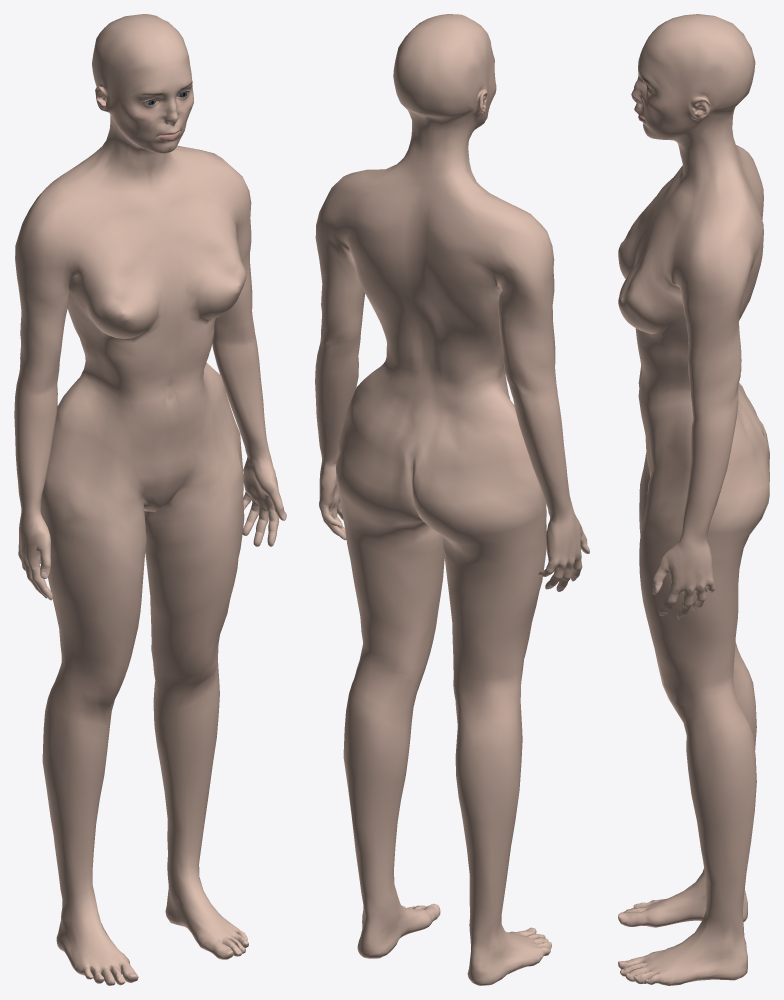
File: woman_central_v4.glb
The picture shows the model from 3 angles, left to right: view 1: azimuth 30°, elevation 25°; view 2: azimuth 150°, elevation 25°; view 3: azimuth 270°, elevation 25°; orthographic projection.
Visible parts, largest first — view 1: basemesh_female_body, face_blink; view 2: basemesh_female_body; view 3: basemesh_female_body, face_blink.
Part boxes in pixels (x1,y1,x2,y2): basemesh_female_body: (14, 14, 286, 985); face_blink: (108, 56, 193, 129); basemesh_female_body: (315, 14, 589, 985); basemesh_female_body: (618, 14, 769, 985); face_blink: (631, 52, 691, 123).
Size of the model in its own units: 0.4716 by 1.67 by 0.2473.
3 materials, 2 textured.
